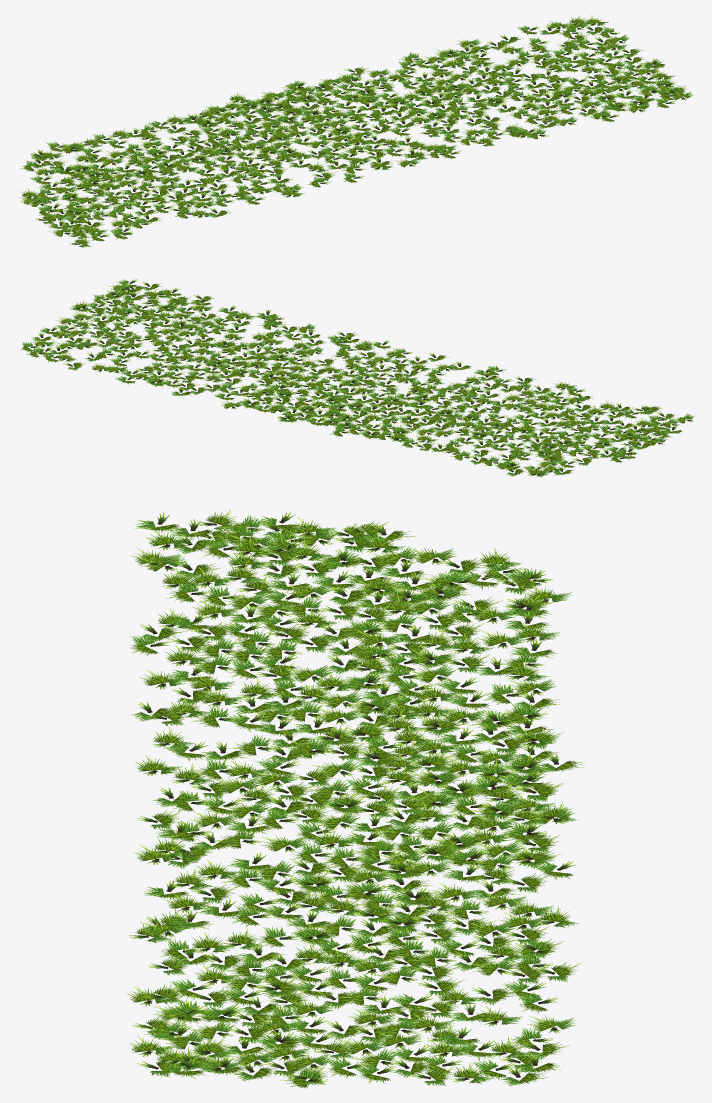
File: grass.fbx
The picture shows the model from 3 angles, top to bottom: view 1: azimuth 30°, elevation 25°; view 2: azimuth 150°, elevation 25°; view 3: azimuth 270°, elevation 25°; orthographic projection. The views are drawn at different scales.
Size of the model in its own units: 4454 by 15.45 by 1535.
